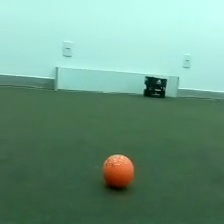ball: (99, 151, 137, 192)
goal: (52, 64, 180, 99)
robot: (142, 74, 168, 99)
